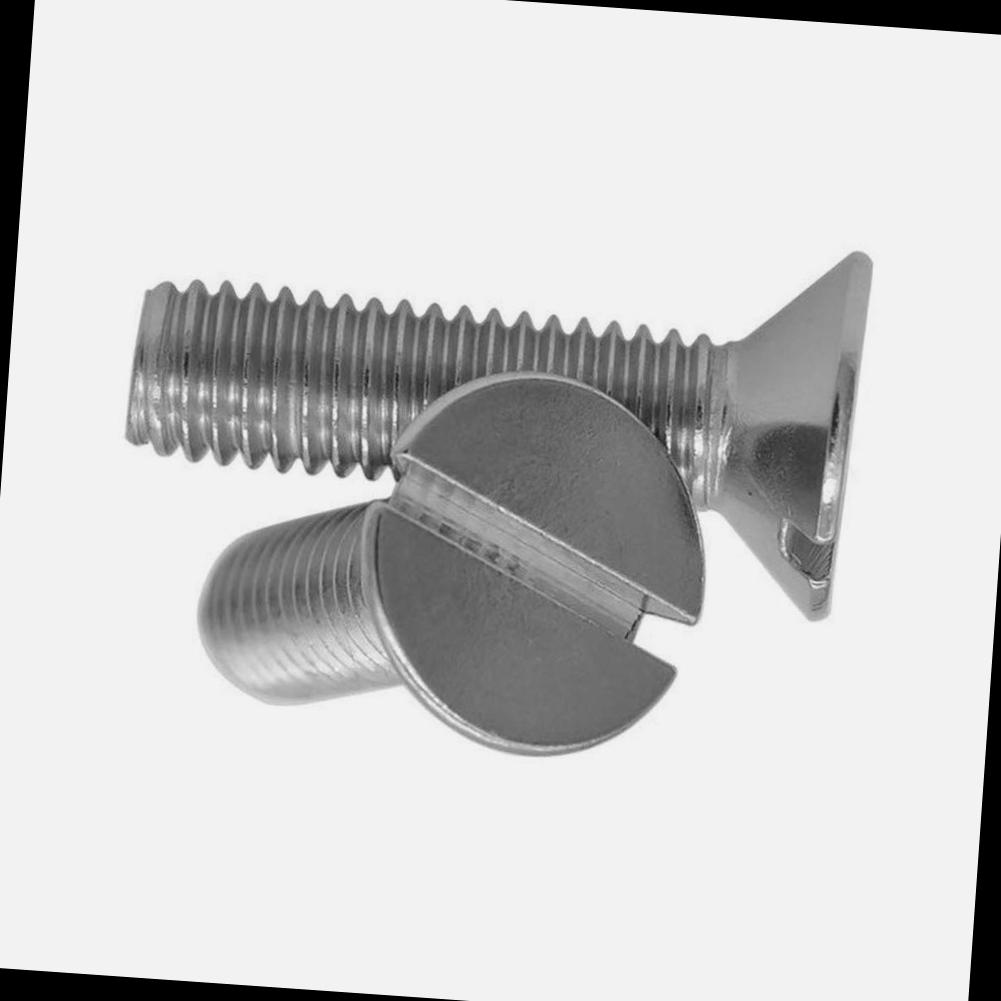screw: (356, 360, 714, 772)
